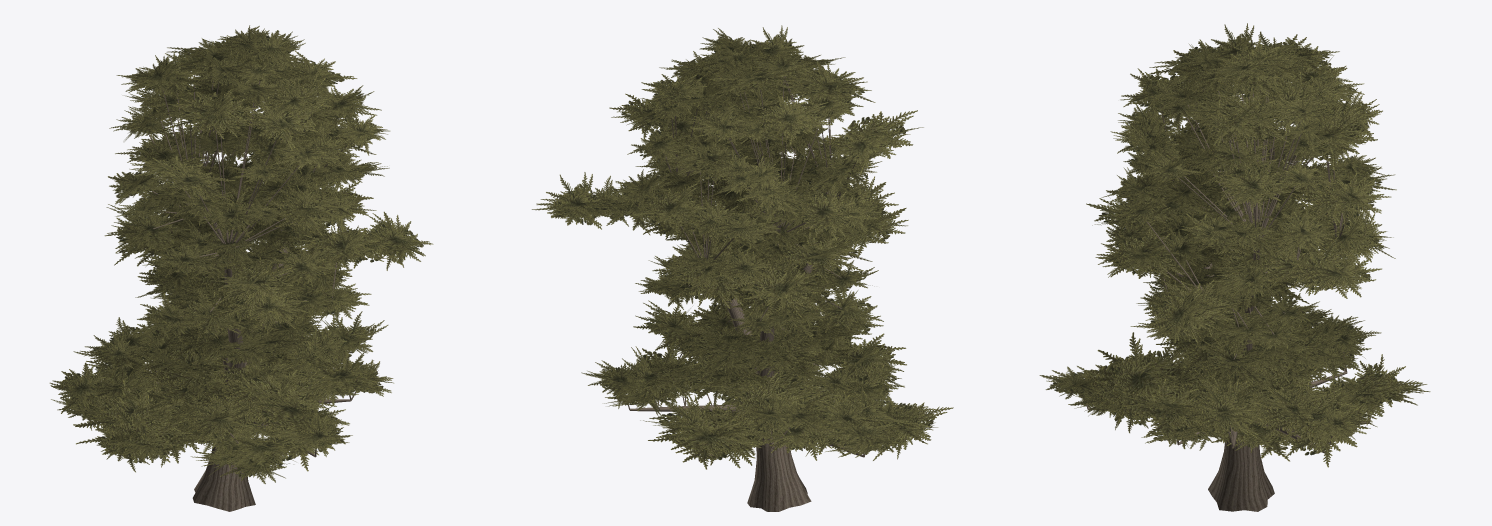
The model's file is mcypt.glb.
3 views of the same model, side by side, from view 1: azimuth 30°, elevation 25°; view 2: azimuth 150°, elevation 25°; view 3: azimuth 270°, elevation 25° (orthographic). The views are drawn at different scales.
Visible parts, largest first — view 1: mcypt_lod0_1, mcypt_lod0_0; view 2: mcypt_lod0_1, mcypt_lod0_0; view 3: mcypt_lod0_1, mcypt_lod0_0.
Boxes of the visible parts, <box> form: mcypt_lod0_1: <box>49,25,433,483</box>; mcypt_lod0_0: <box>88,75,355,511</box>; mcypt_lod0_1: <box>532,25,953,469</box>; mcypt_lod0_0: <box>607,76,865,511</box>; mcypt_lod0_1: <box>1039,23,1430,467</box>; mcypt_lod0_0: <box>1086,86,1370,511</box>.
Size of what is drawn, in the model's own units: 20.85 by 22.58 by 19.91.
2 materials, 2 textured.
